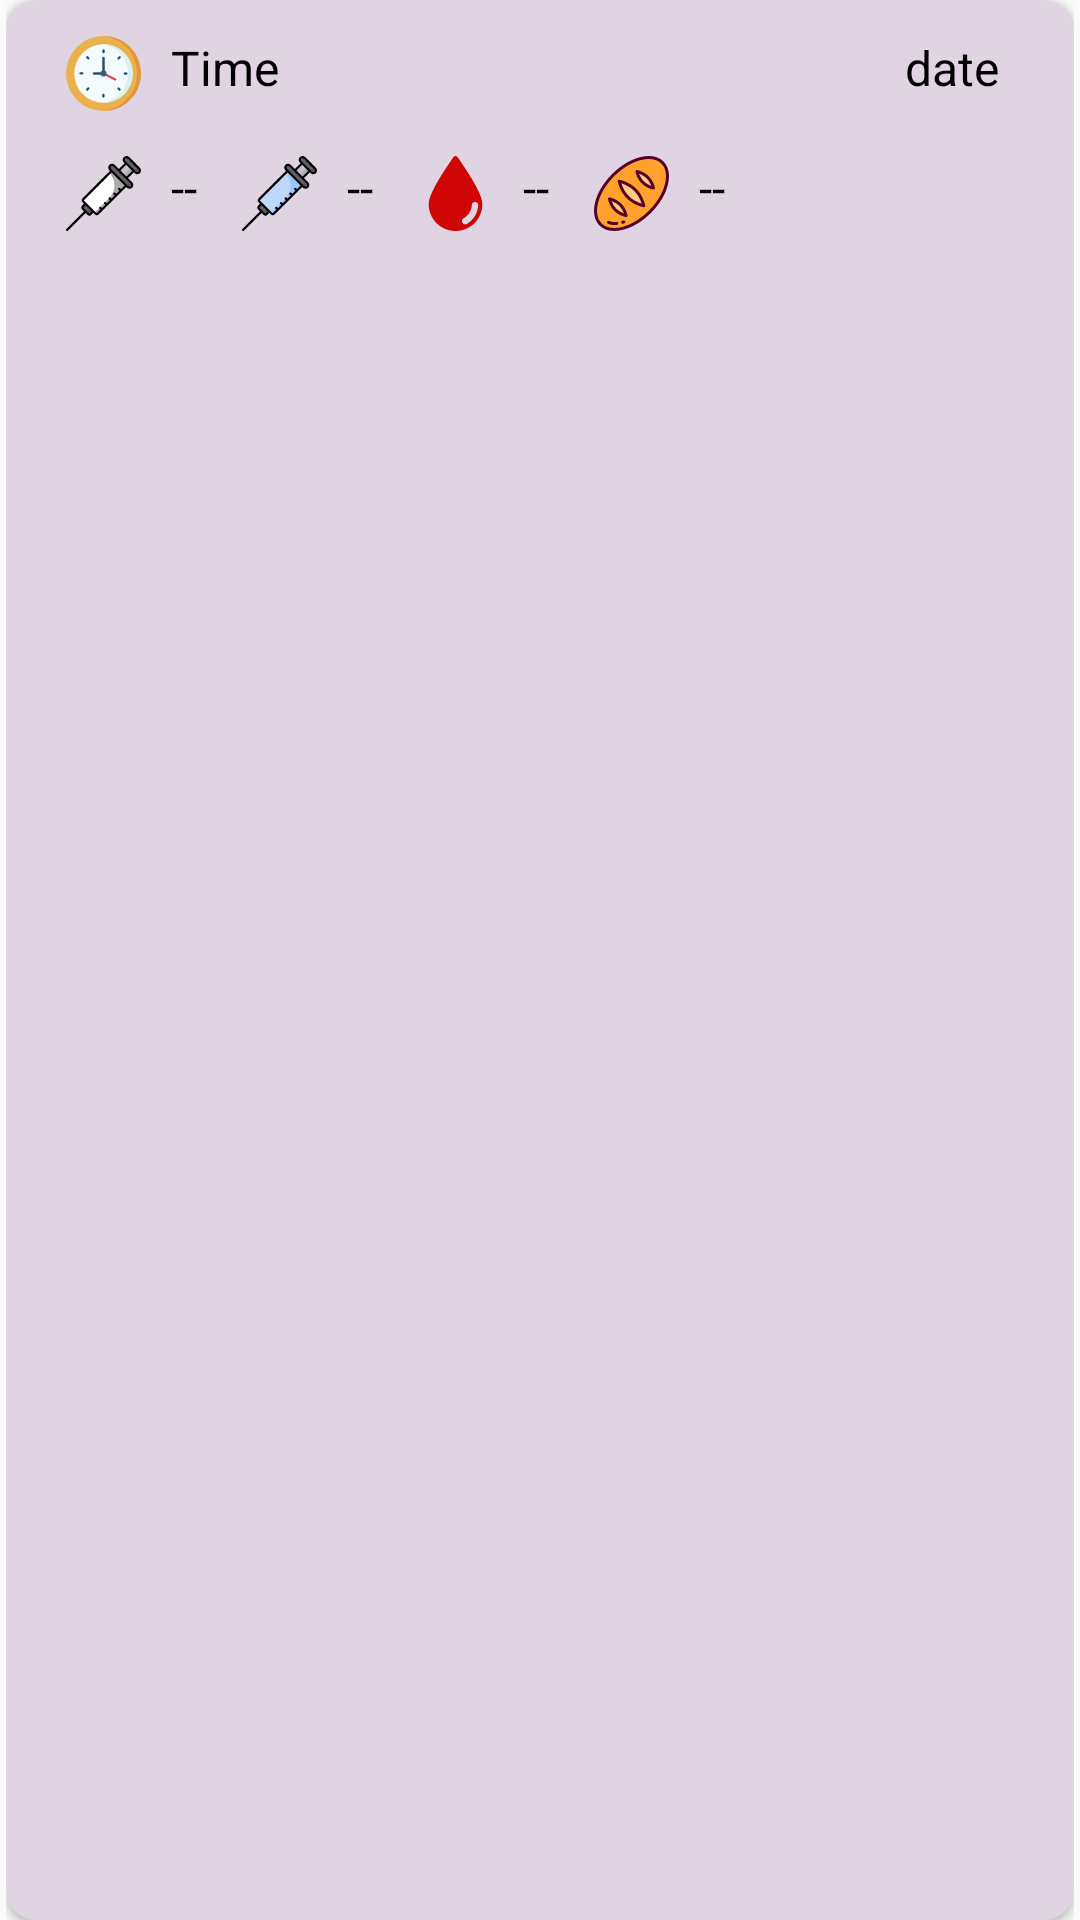

Where to tap for icons on this 1080 × 1920 app screen, as (x=x, y=y):
clock: (x=103, y=73)
drop blood: (x=455, y=193)
loaf: (x=631, y=193)
